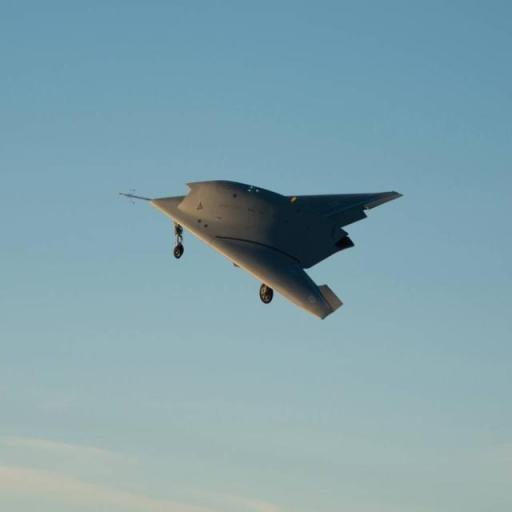uav: (110, 163, 410, 344)
